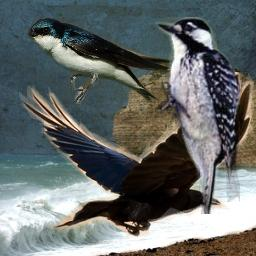Crow: (19, 72, 256, 237)
Swallow: (26, 17, 179, 108)
Woodpecker: (155, 17, 240, 214)
